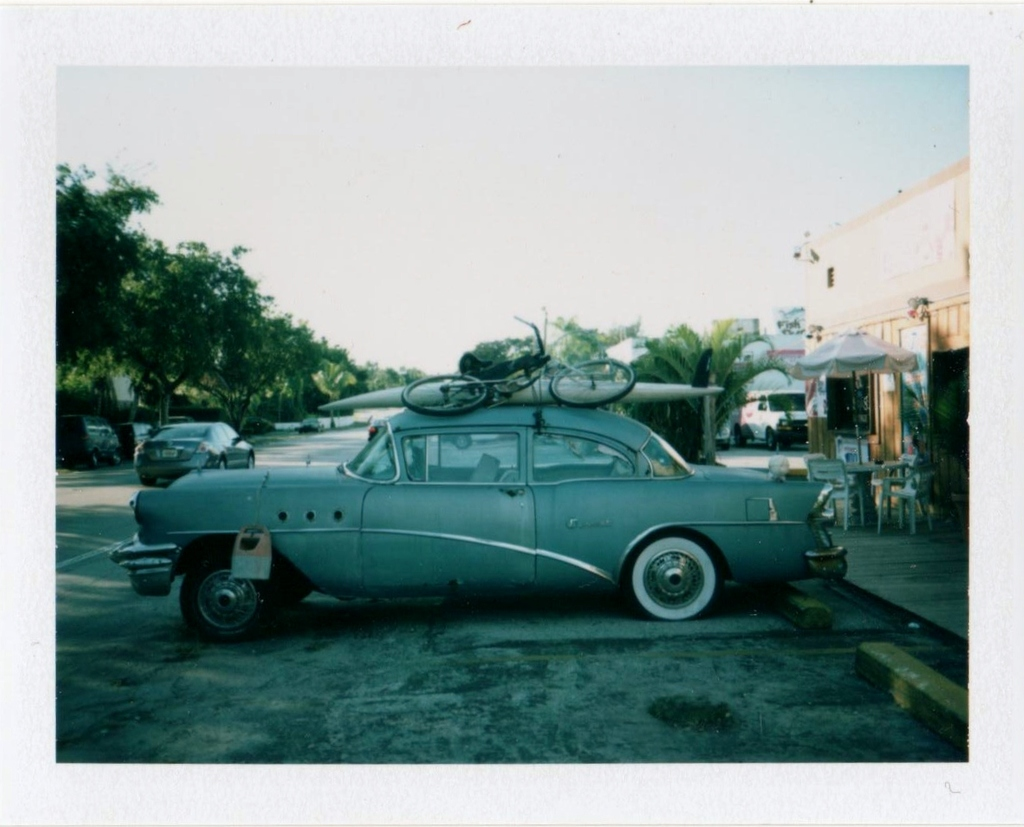Car: (108, 404, 849, 640), (135, 421, 260, 486), (738, 387, 811, 450), (298, 413, 320, 433)
